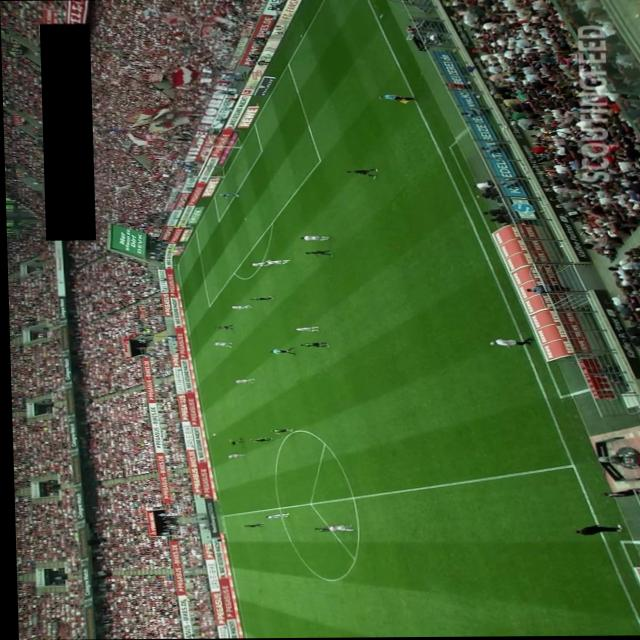goalkeeper: (217, 192, 239, 197)
player: (345, 168, 377, 178), (320, 523, 352, 531), (303, 249, 331, 257), (310, 525, 341, 532), (247, 258, 271, 267), (261, 258, 289, 265), (297, 341, 328, 347), (298, 234, 329, 240), (262, 512, 286, 519), (292, 325, 318, 331), (266, 428, 291, 434), (231, 378, 252, 384), (212, 324, 232, 330), (211, 342, 231, 348), (227, 438, 241, 446), (247, 437, 269, 442), (247, 296, 271, 300), (228, 305, 250, 309), (240, 523, 261, 527), (224, 454, 243, 458)
referee: (377, 94, 415, 104), (267, 347, 294, 355), (205, 536, 225, 542)
